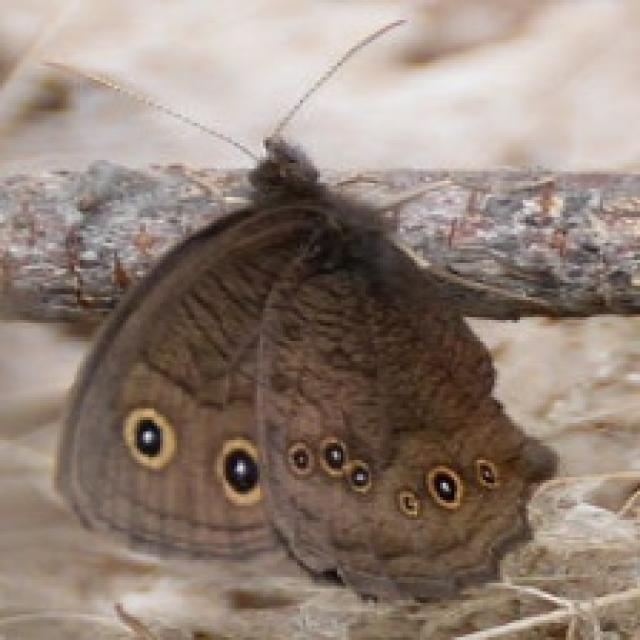butterfly: (37, 14, 637, 609)
